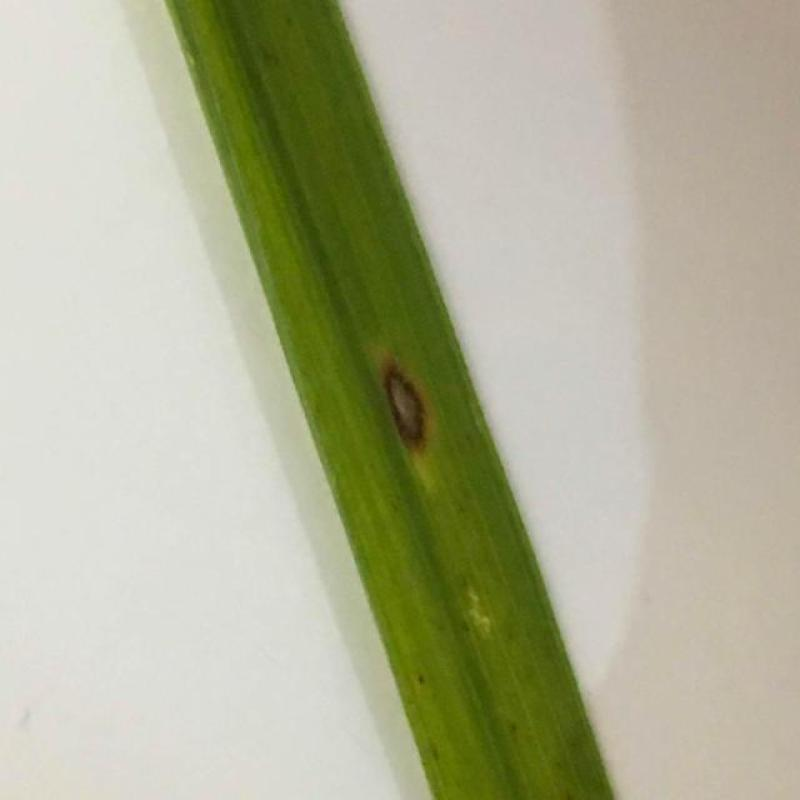Leaf_Blast: (334, 268, 498, 558)
